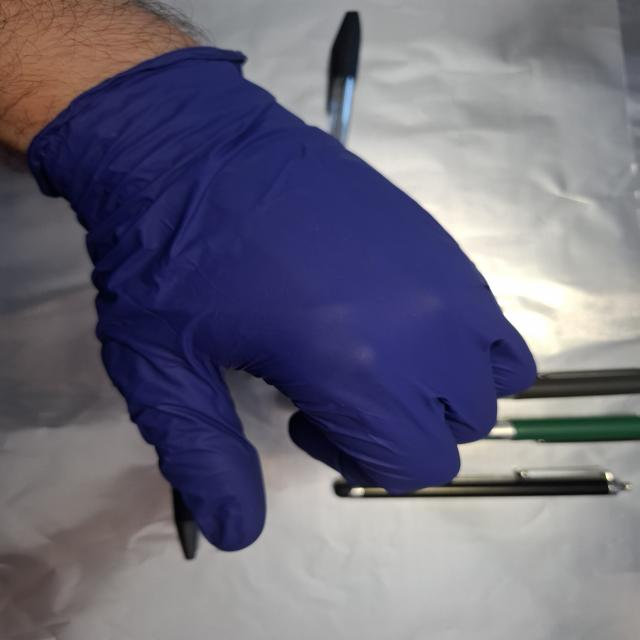glove_on: (20, 42, 541, 554)
